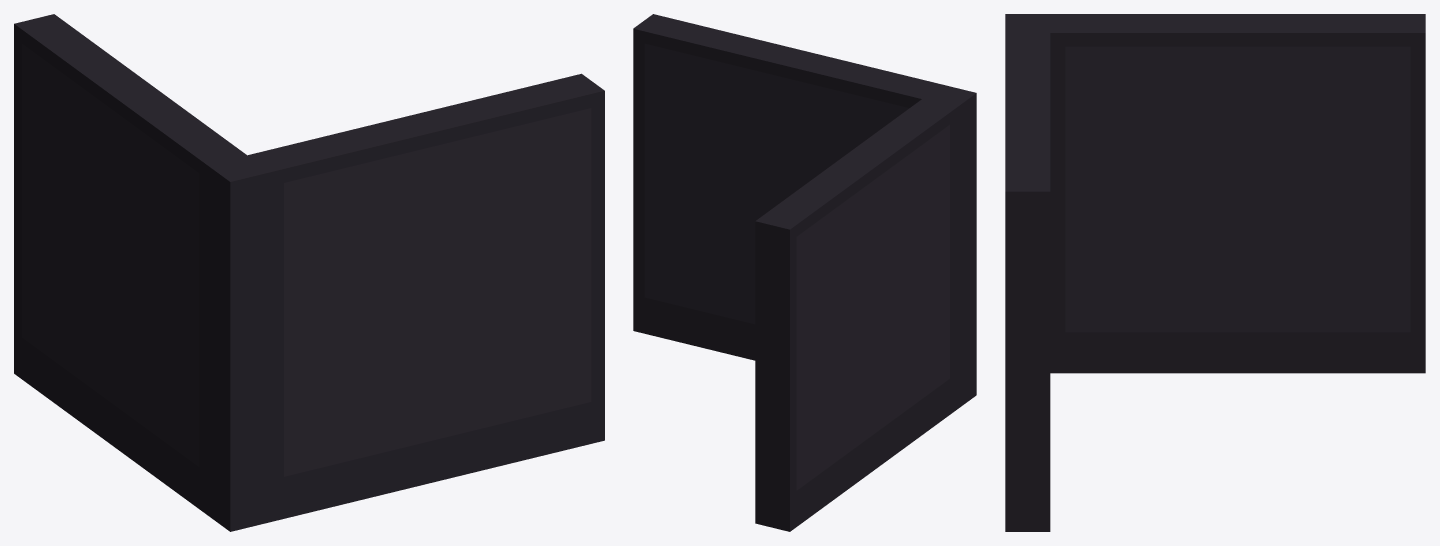
File: wall_corner1.glb
3 renders of one model, left to right at view 1: azimuth 30°, elevation 25°; view 2: azimuth 150°, elevation 25°; view 3: azimuth 270°, elevation 25°, orthographic. The views are drawn at different scales.
Parts seen in each view (by area): view 1: Untitled; view 2: Untitled; view 3: Untitled.
Part boxes in pixels (x1,y1,x2,y2): Untitled: (14, 14, 604, 531); Untitled: (633, 14, 976, 531); Untitled: (1005, 14, 1425, 531).
Bounding box in the file's own units: 2.8 × 2.5 × 2.8.
Materials: 1 (1 with a texture image).
